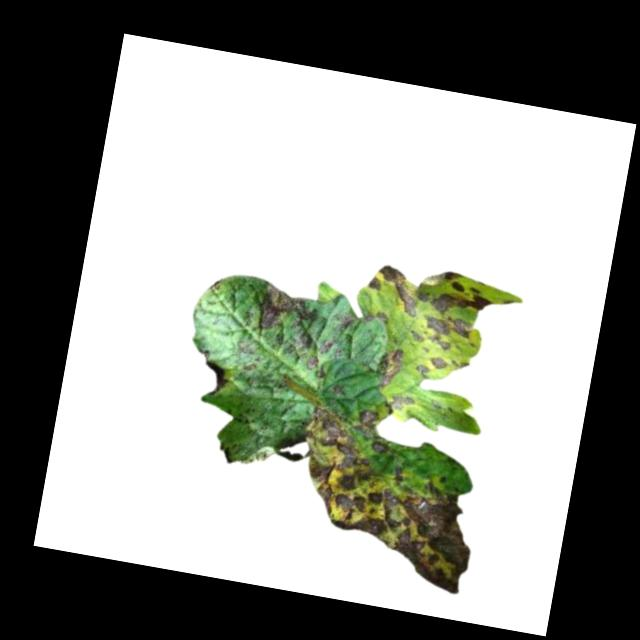Early_blight: (282, 412, 490, 596), (254, 279, 319, 349), (417, 267, 496, 322), (363, 262, 423, 319), (407, 309, 476, 357), (373, 343, 407, 393), (200, 358, 231, 398), (415, 352, 448, 380), (387, 390, 416, 413), (357, 405, 381, 426), (337, 311, 356, 332), (305, 352, 321, 371), (319, 339, 335, 352)
